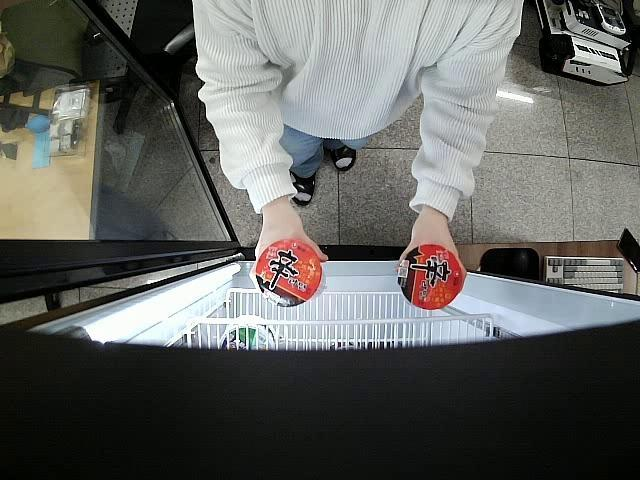02_shinRamen_S: (254, 238, 323, 308), (396, 243, 465, 311)
